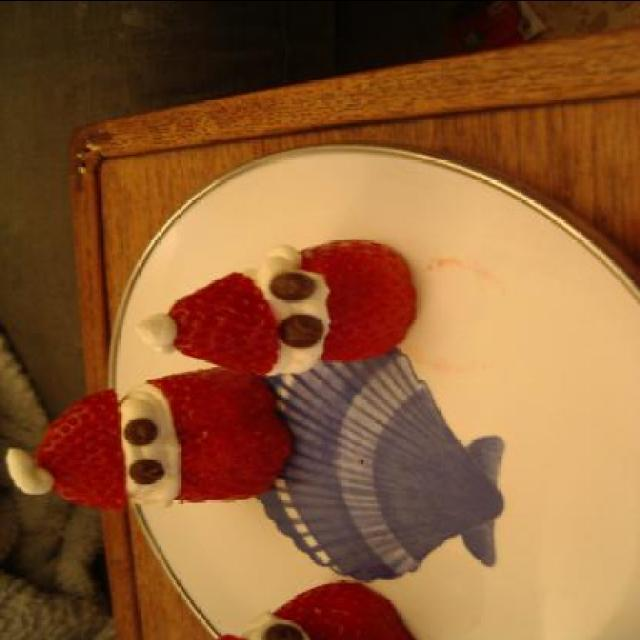Strawberry: (142, 368, 296, 499), (294, 240, 418, 362), (168, 272, 282, 376), (39, 386, 124, 511), (263, 588, 406, 640)
